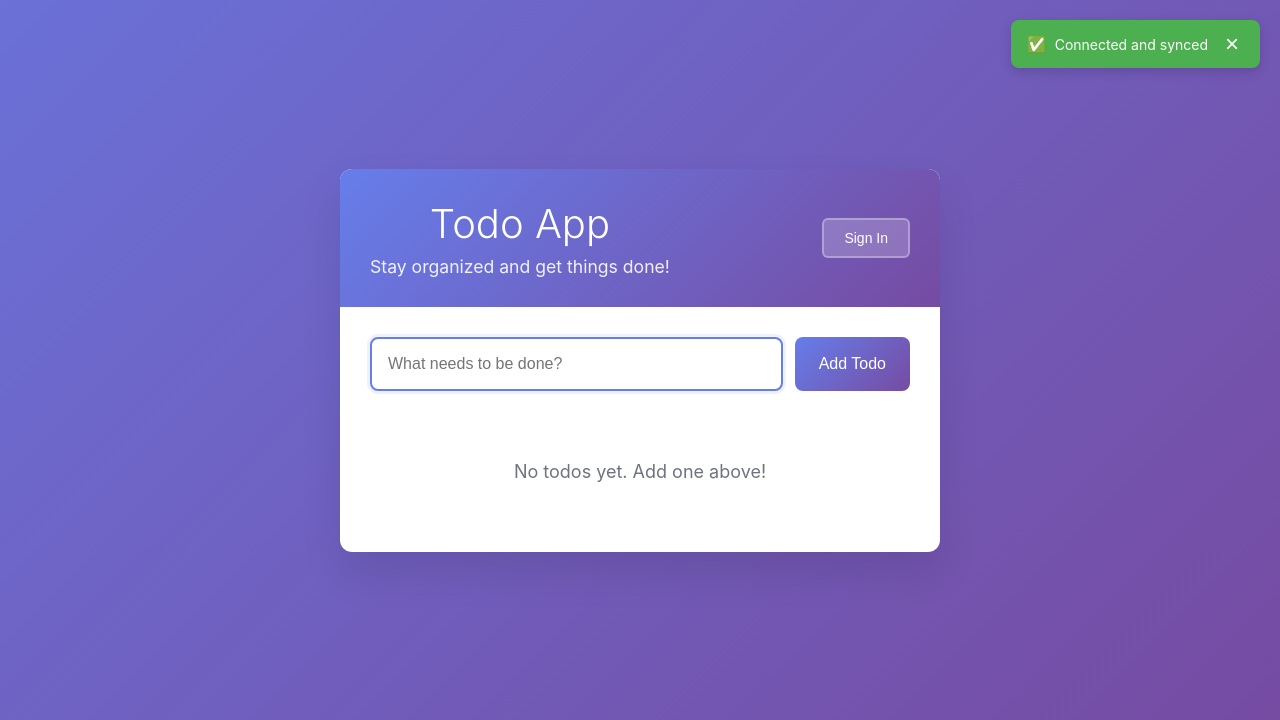
Scenario: Todo App Integration Tests › filter persistence: filter state is maintained during operations
(page scrolled)
Type "First todo" into the field with placeholder "What needs to be done?" at (576,364), box [370, 336, 783, 390]
Click the button "Add Todo" at (852,364), box [795, 336, 910, 390]
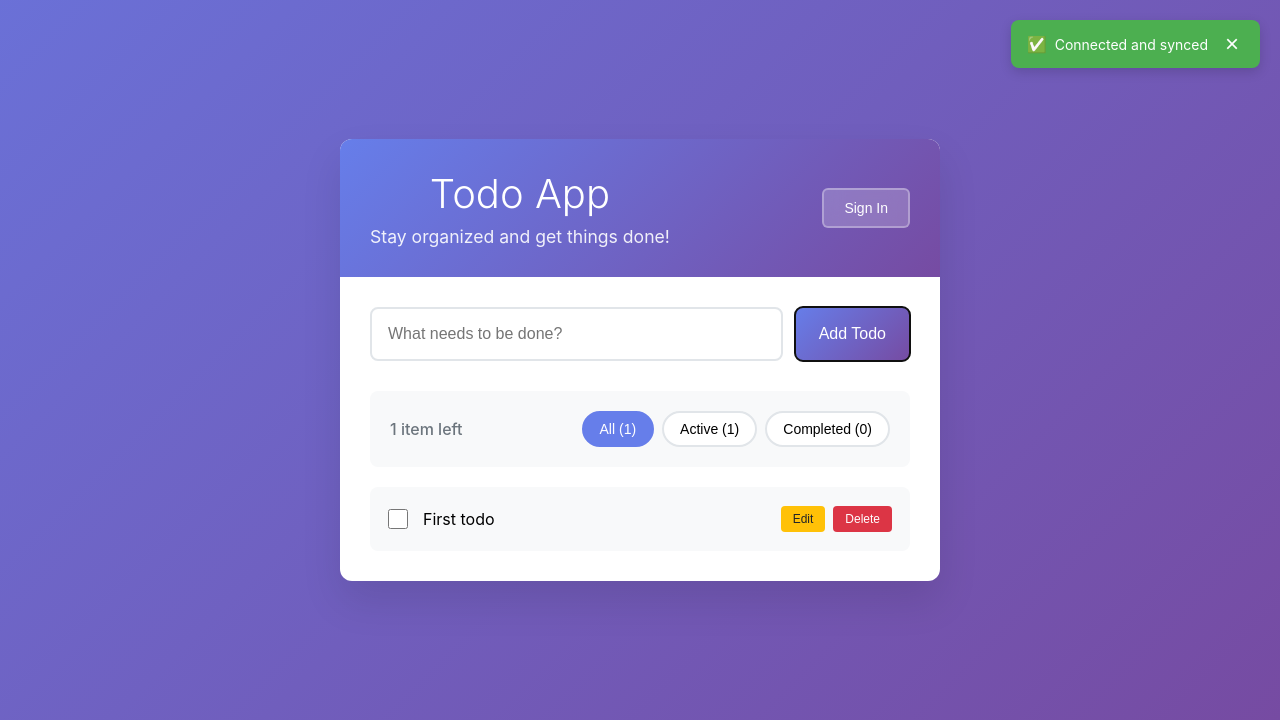
Type "Second todo" into the field with placeholder "What needs to be done?" at (576,334), box [370, 307, 783, 361]
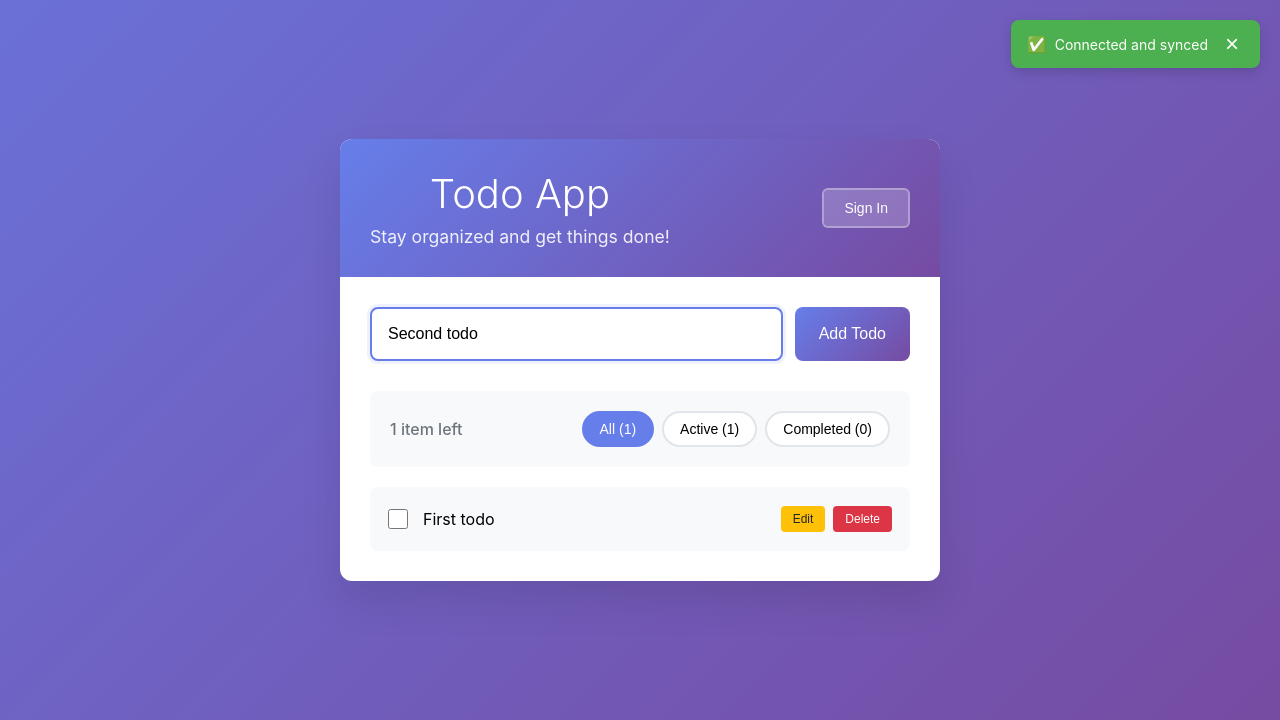
Click the button "Add Todo" at (852,334), box [795, 307, 910, 361]
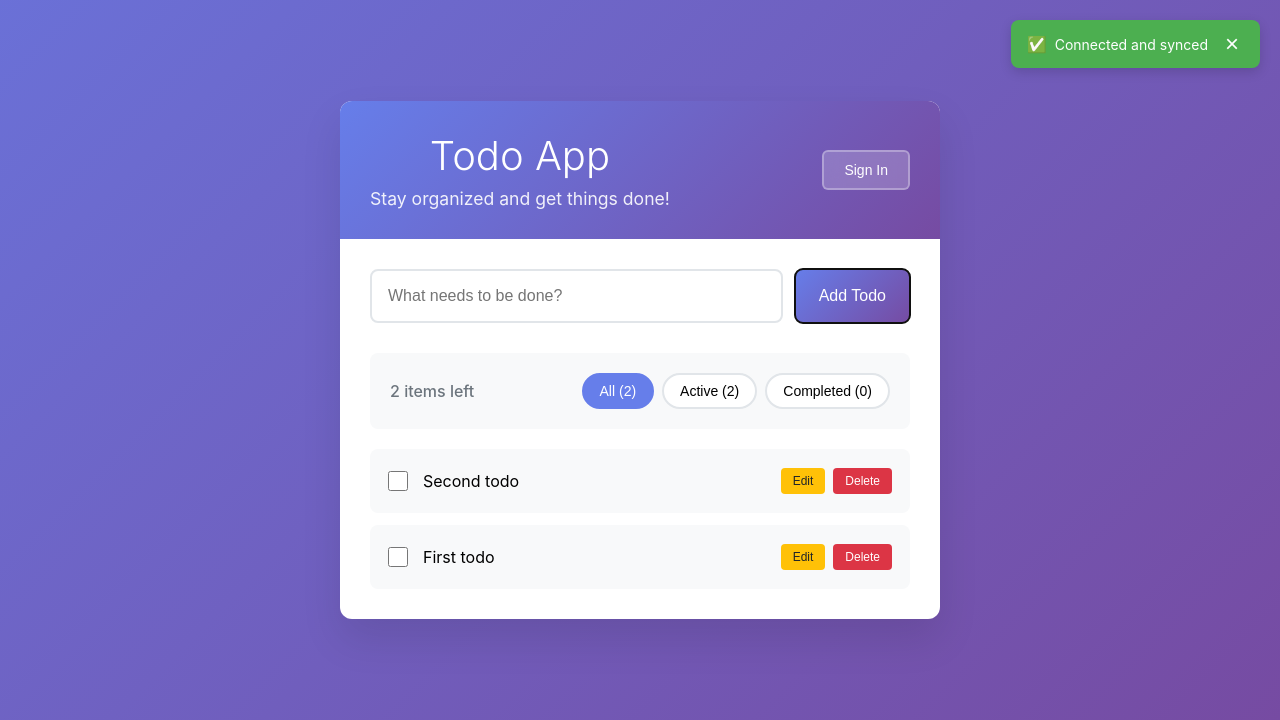
Click the checkbox next to "First todo" at (398,557), box [388, 547, 408, 567]
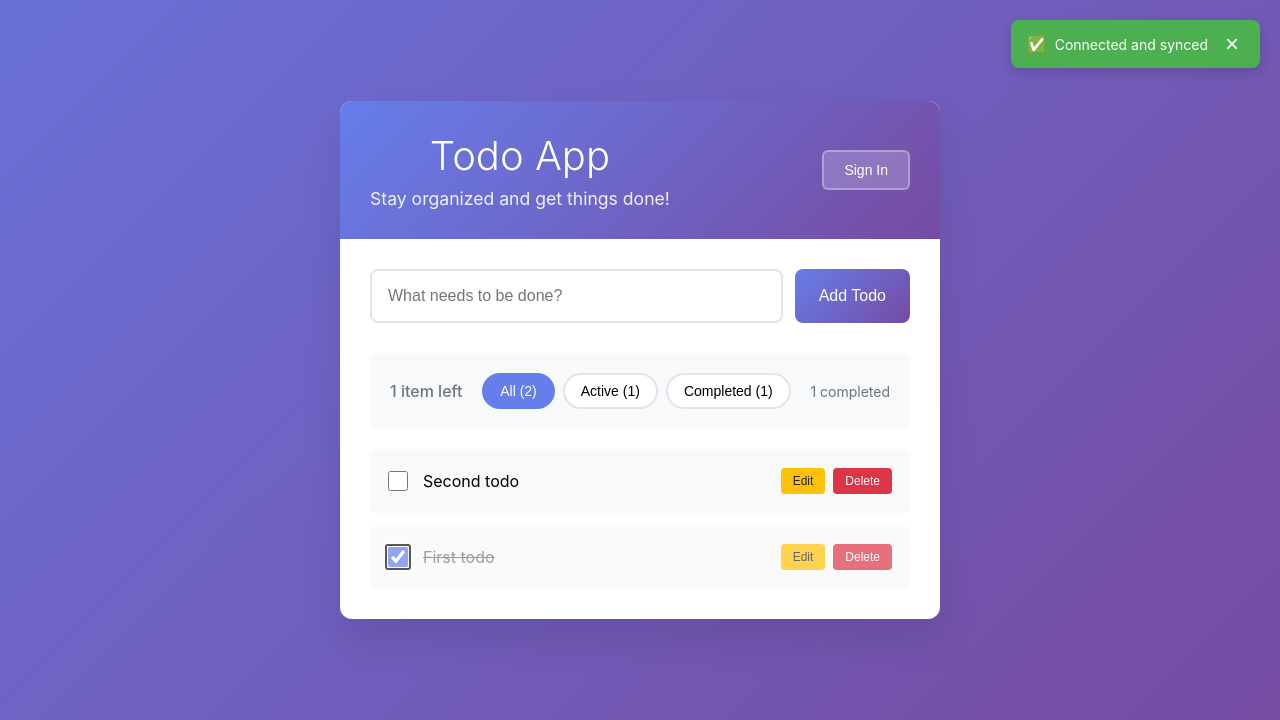
Expected: the button "Active (1)" is shown
Expected: the button "Completed (1)" is shown, [666, 373, 791, 409]
Switch to active filter
Click the button "Active (1)" at (610,391), box [563, 373, 658, 409]
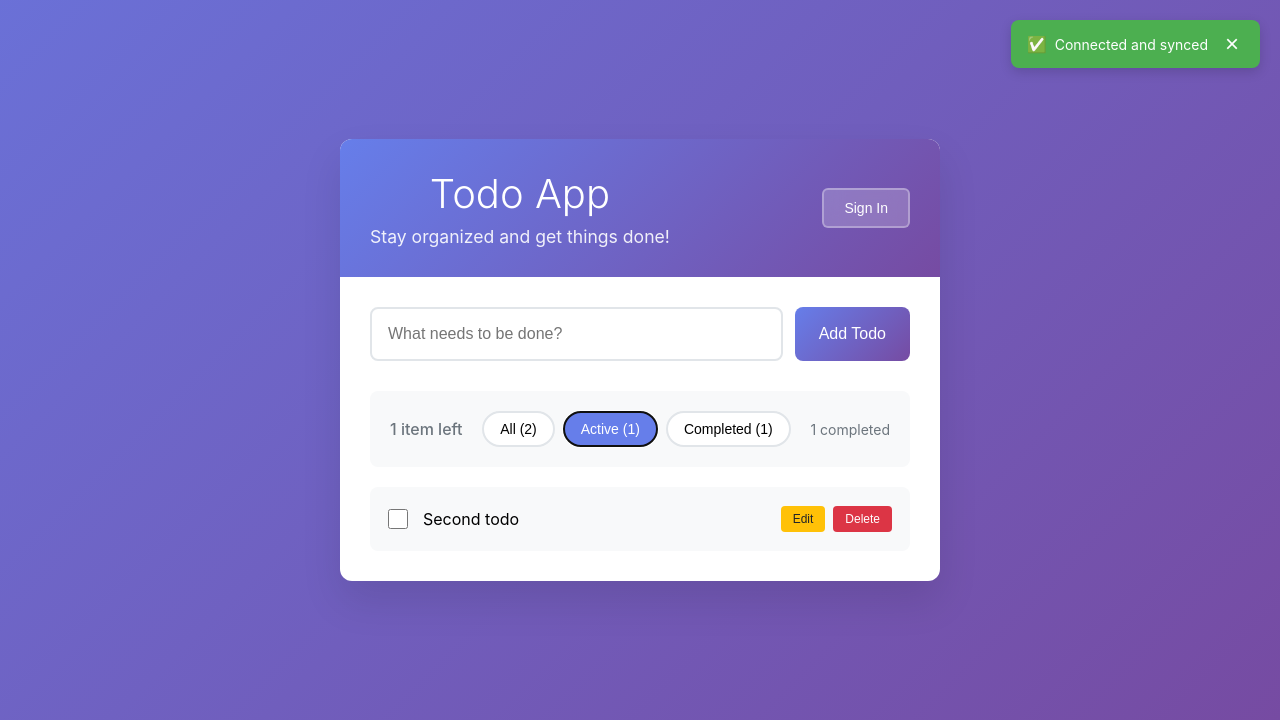
Expected: the text "Second todo" is shown, [423, 509, 519, 529]
Expected: the text "First todo" is gone
Type "New active todo" into the field with placeholder "What needs to be done?" at (576,334), box [370, 307, 783, 361]
Click the button "Add Todo" at (852,334), box [795, 307, 910, 361]
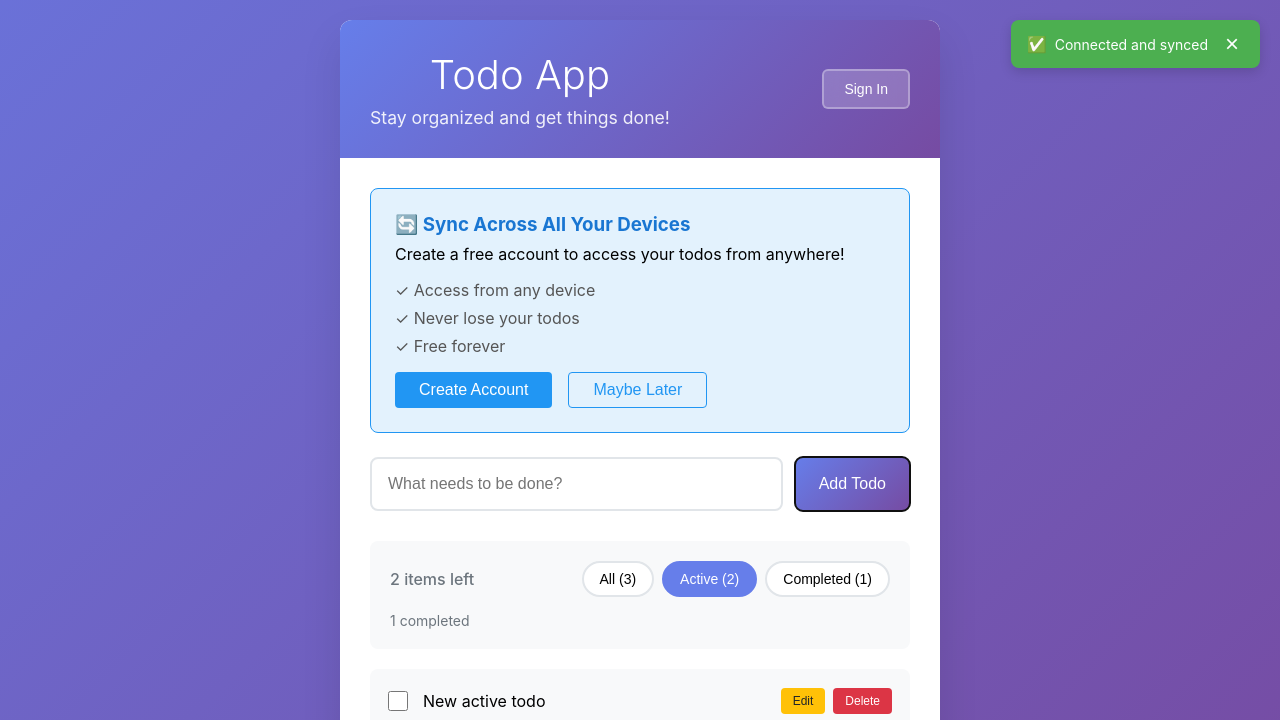
Expected: the text "First todo" is not shown
Expected: the text "New active todo" is shown, [423, 691, 546, 711]
